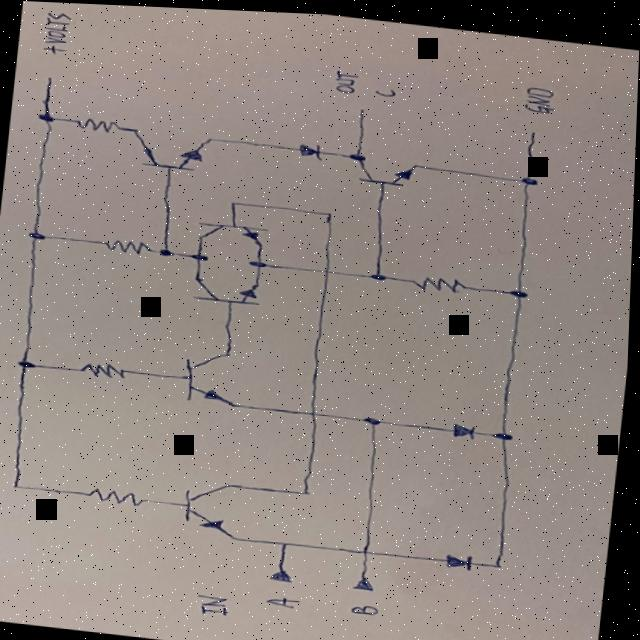diode: (444, 547, 478, 567), (295, 138, 324, 158), (451, 418, 479, 436)
junction: (508, 165, 549, 187), (299, 399, 336, 423), (25, 108, 64, 128), (355, 407, 393, 427), (18, 225, 53, 246), (10, 354, 44, 374), (362, 263, 396, 283), (487, 422, 524, 440), (500, 278, 535, 297), (351, 538, 381, 558), (340, 145, 373, 162), (311, 259, 339, 278), (309, 202, 342, 218), (273, 532, 298, 553), (3, 477, 34, 493), (220, 194, 249, 211), (244, 254, 273, 270), (293, 482, 318, 499), (152, 243, 178, 259), (186, 248, 212, 263), (492, 553, 513, 567)
resistor: (82, 482, 151, 507), (407, 267, 471, 291), (97, 234, 154, 259), (75, 358, 134, 380), (70, 113, 125, 134)
terminal: (264, 556, 301, 584), (350, 567, 383, 592), (516, 116, 545, 144), (343, 95, 370, 124), (36, 67, 62, 92)
text: (515, 78, 561, 112), (33, 8, 74, 46), (188, 589, 241, 618), (326, 65, 362, 93), (347, 596, 391, 615), (266, 591, 306, 609), (370, 81, 399, 97), (36, 43, 66, 56)
transistor: (177, 474, 249, 540), (177, 346, 247, 409), (184, 266, 267, 308), (129, 134, 210, 174), (190, 215, 275, 250), (350, 157, 420, 191)
